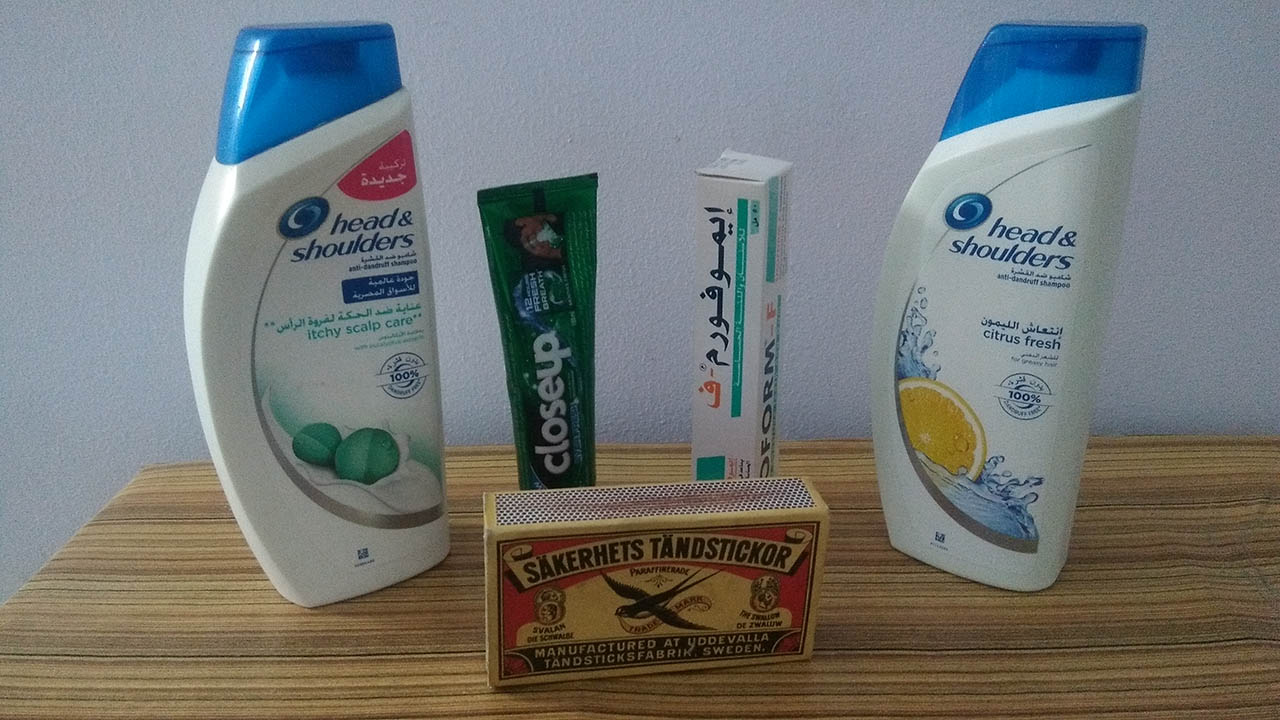Toothpaste-Closeup 3.04$: (491, 160, 608, 488)
Toothpaste-F 1.5$: (687, 147, 796, 481)
match-sticks .90$: (481, 490, 828, 677)
shampoo-Lemon 3.5$: (871, 19, 1163, 604)
shampoo-green 4.5$: (182, 11, 453, 590)
